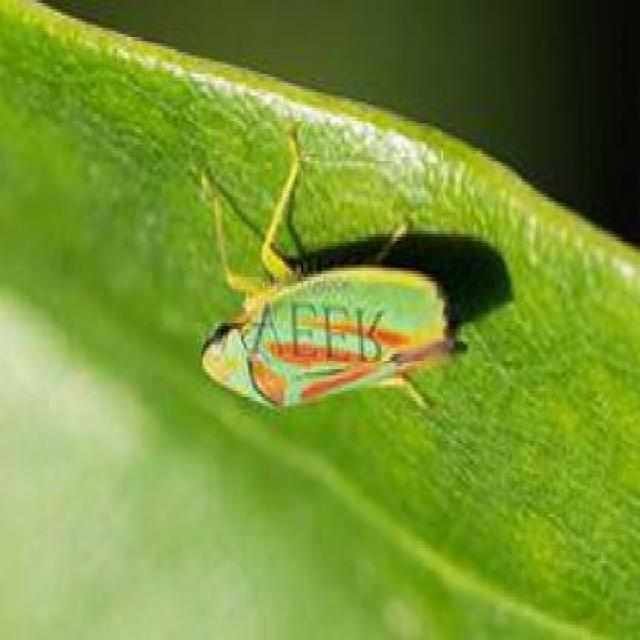green-leafhopper: (198, 237, 452, 417)
